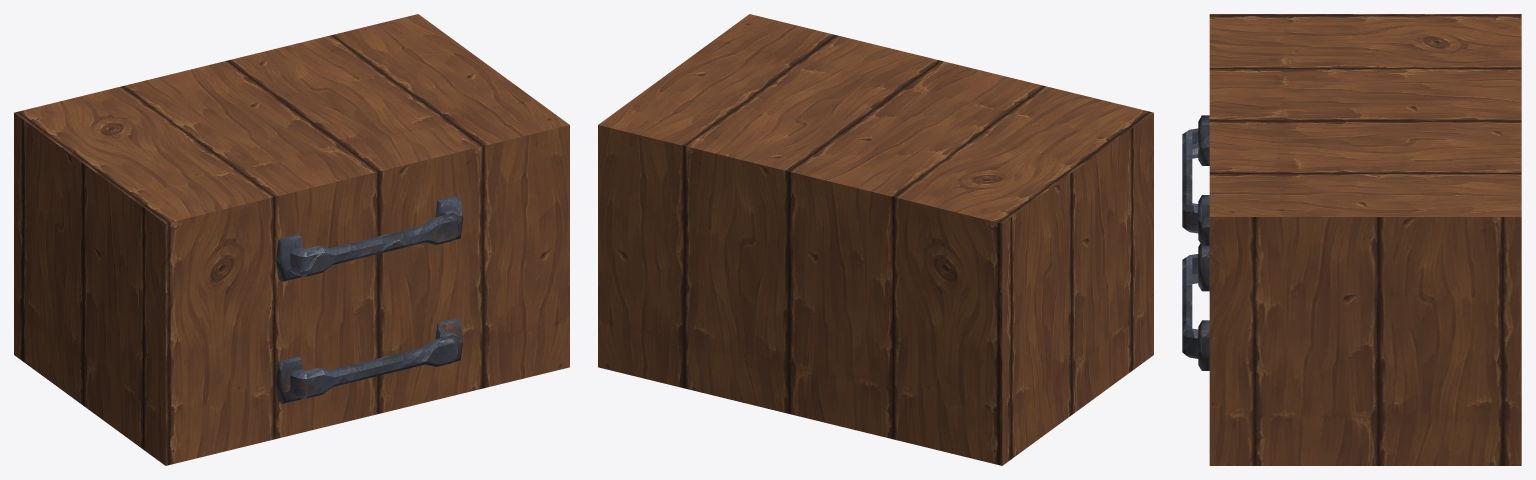
File: furn_drawers.glb
3 views of the same model, side by side, from view 1: azimuth 30°, elevation 25°; view 2: azimuth 150°, elevation 25°; view 3: azimuth 270°, elevation 25° (orthographic). The views are drawn at different scales.
Parts seen in each view (by area): view 1: model; view 2: model; view 3: model.
Part boxes in pixels (x1,y1,x2,y2): model: [14, 14, 569, 465]; model: [598, 14, 1153, 465]; model: [1182, 14, 1521, 465].
Bounding box in the file's own units: 0.677 × 0.3877 × 0.4784.
Materials: 2 (2 with a texture image).
